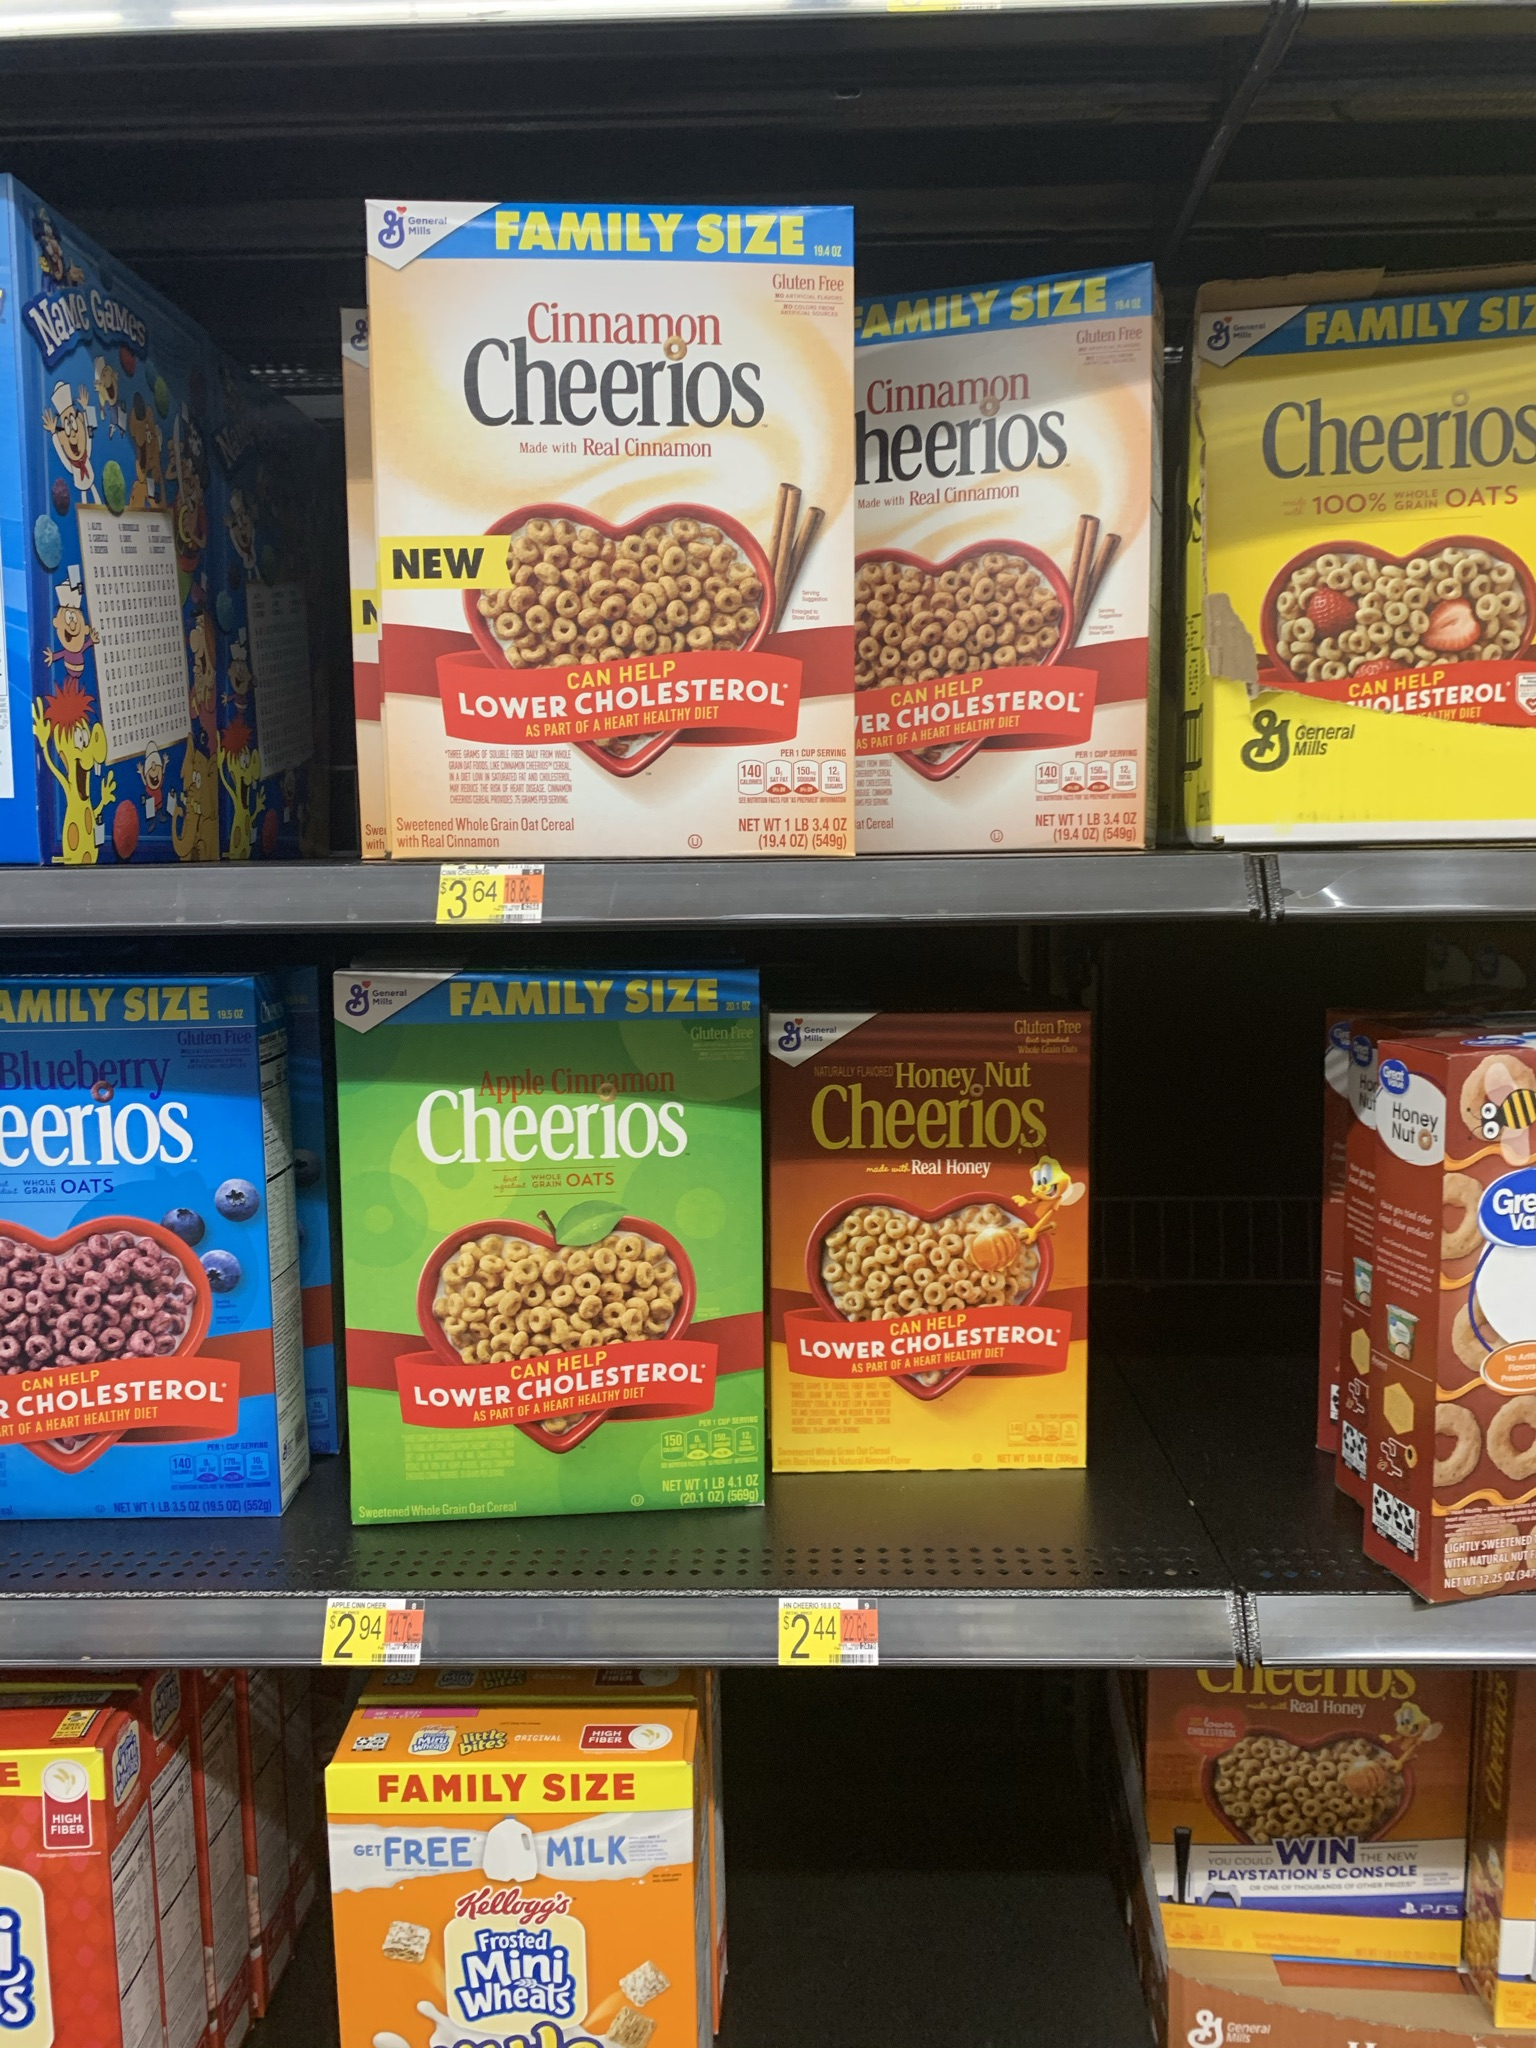cereal: (353, 185, 854, 860), (332, 976, 778, 1522), (1191, 310, 1536, 826), (876, 245, 1167, 845), (783, 1018, 1104, 1469), (2, 990, 268, 1517)
